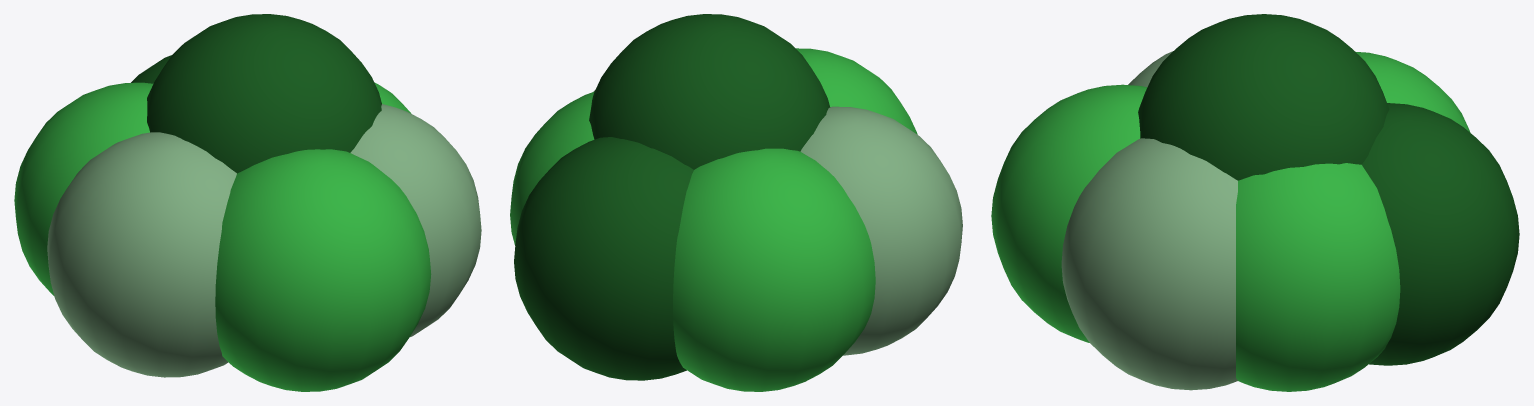
Rendered from bush.fbx.
3 views of the same model, side by side, from view 1: azimuth 30°, elevation 25°; view 2: azimuth 150°, elevation 25°; view 3: azimuth 270°, elevation 25° (orthographic). The views are drawn at different scales.
Parts seen in each view (by area): view 1: pSphere2, pSphere3, pSphere1, pSphere7, pSphere4, pSphere5; view 2: pSphere4, pSphere5, pSphere1, pSphere3, pSphere6, pSphere2; view 3: pSphere7, pSphere6, pSphere1, pSphere5, pSphere2, pSphere4.
Boxes of the visible parts, left/top/right/bottom form: pSphere2: left=215, top=149, right=431, bottom=391; pSphere3: left=47, top=132, right=236, bottom=377; pSphere1: left=147, top=14, right=381, bottom=173; pSphere7: left=350, top=104, right=481, bottom=336; pSphere4: left=14, top=82, right=153, bottom=295; pSphere5: left=131, top=55, right=171, bottom=83; pSphere4: left=673, top=148, right=875, bottom=391; pSphere5: left=514, top=137, right=693, bottom=380; pSphere1: left=589, top=14, right=830, bottom=169; pSphere3: left=800, top=106, right=962, bottom=355; pSphere6: left=510, top=91, right=594, bottom=245; pSphere2: left=796, top=48, right=917, bottom=134; pSphere7: left=1061, top=138, right=1237, bottom=390; pSphere6: left=1236, top=163, right=1400, bottom=391; pSphere1: left=1138, top=14, right=1389, bottom=180; pSphere5: left=1361, top=103, right=1519, bottom=365; pSphere2: left=991, top=84, right=1147, bottom=342; pSphere4: left=1355, top=51, right=1470, bottom=132.
Bounding box in the file's own units: 3.63 × 2.69 × 4.02.
